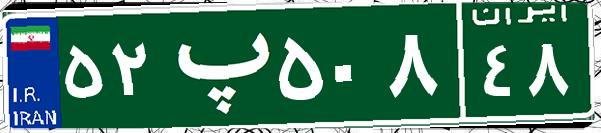0: (330, 28, 385, 110)
2: (110, 28, 158, 105)
4: (475, 38, 525, 113)
5: (273, 28, 330, 110), (57, 26, 110, 107)
8: (385, 28, 445, 110), (525, 38, 570, 115)
پ: (158, 15, 273, 115)
